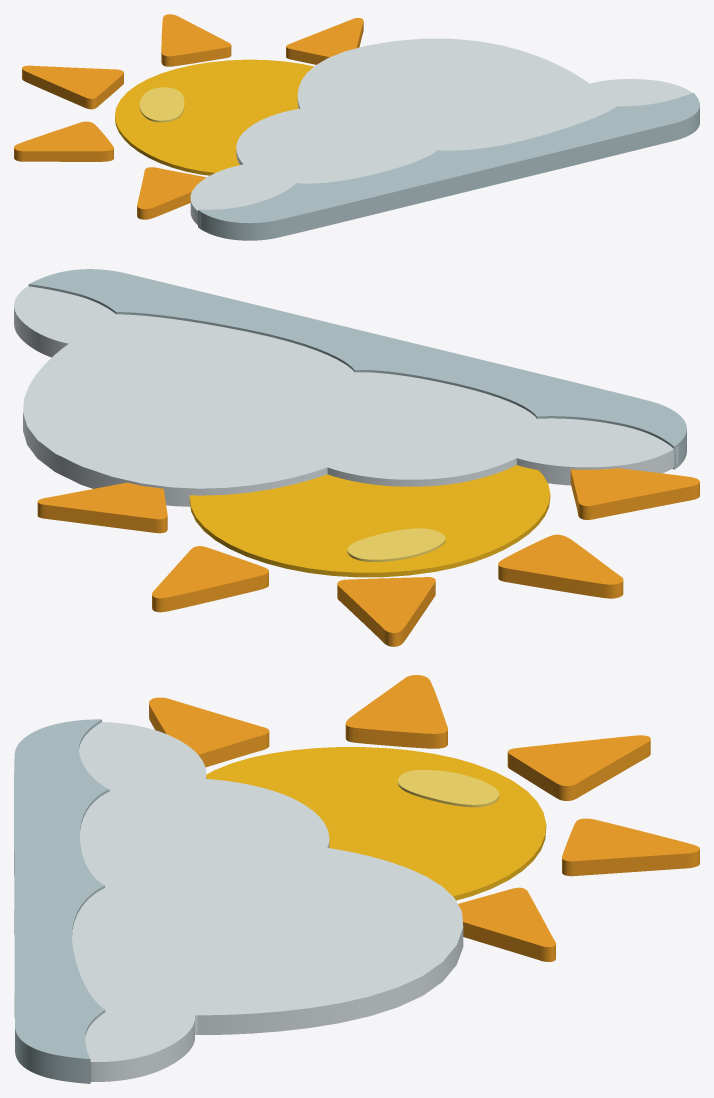
Rendered from emoji_u26c5.glb.
3 renders of one model, top to bottom at view 1: azimuth 30°, elevation 25°; view 2: azimuth 150°, elevation 25°; view 3: azimuth 270°, elevation 25°, orthographic. The views are drawn at different scales.
Parts seen in each view (by area): view 1: emoji_u26c5; view 2: emoji_u26c5; view 3: emoji_u26c5.
Boxes of the visible parts, x1,y1,x2,y2 form: emoji_u26c5: (14, 14, 699, 240); emoji_u26c5: (14, 269, 699, 646); emoji_u26c5: (14, 675, 699, 1083).
Bounding box in the file's own units: 0.0336 × 0.001 × 0.025.
